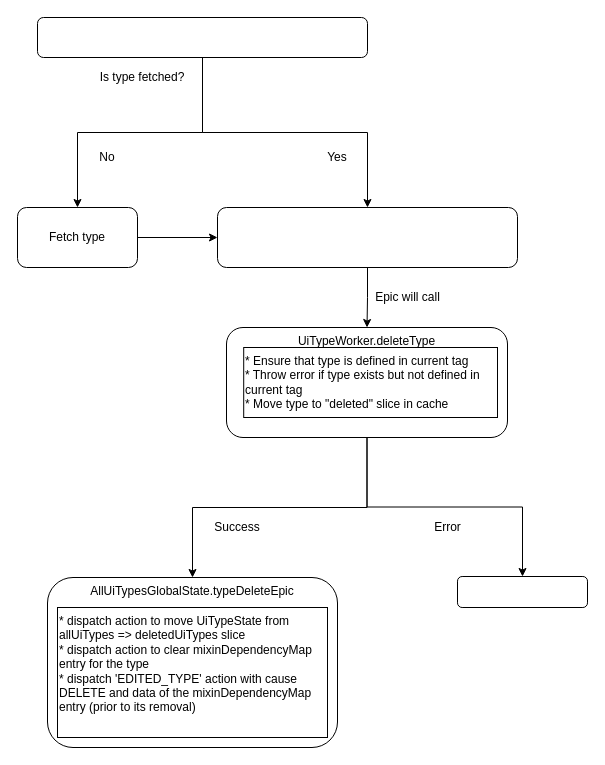
Image size: 605x765. Some labels were removed from this diagram. Here are the shapes that lost their labels. From the top down, the box of each, then its label:
(36, 16, 368, 58): EntityNodeHandler.deleteNodeActionsObservable
(216, 206, 518, 268): AllUiTypesGlobalState.deleteTypeAction(uiTypeId)
(456, 576, 588, 608): Display/catch error
